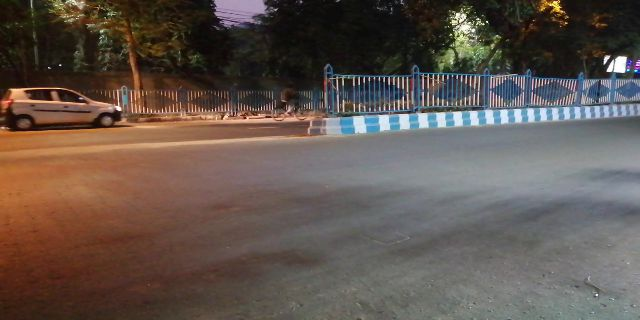Car: (6, 86, 125, 134)
